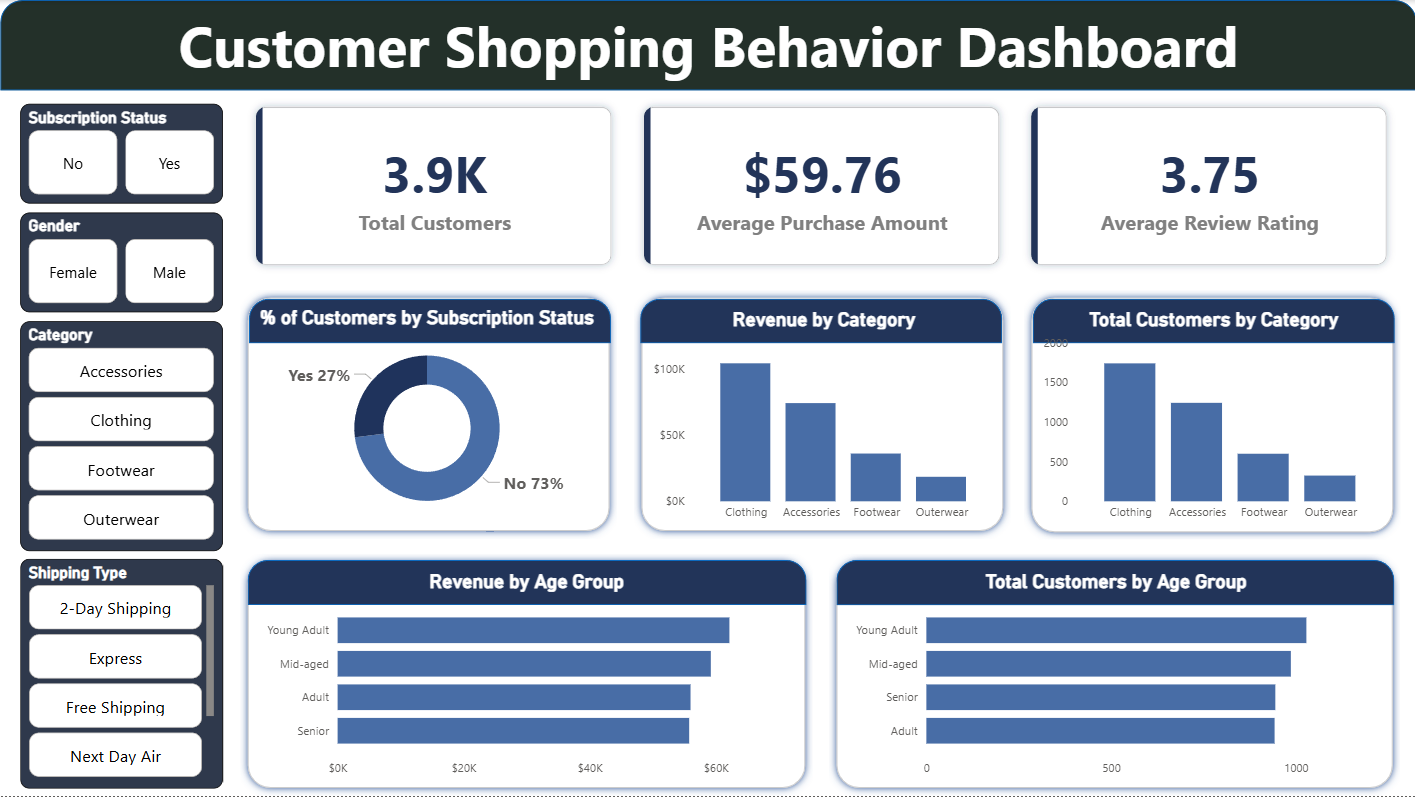

The page's visual inventory and layout, read from the dashboard file:
{"tool":"powerbi","page":{"name":"Page 1","canvas":[1500,842],"ordinal":0},"visuals":[{"type":"cardVisual","fields":{"Data":["_Measures.Total_Customers","_Measures.Average_Purchase_Amount","_Measures.Average_Review_Rating"]},"box":[241.4,82.9,1258.6,227.1],"z":0},{"type":"shape","box":[1.4,0,1498.6,95.7],"z":1000},{"type":"shape","box":[255.7,307.1,398.6,262.9],"z":2000},{"type":"shape","box":[1084.3,307.1,398.6,264.3],"z":3000},{"type":"shape","box":[671.4,307.1,398.6,262.9],"z":4000},{"type":"shape","box":[255.7,585.7,605.7,255.7],"z":7000},{"type":"shape","box":[878.6,585.7,604.3,255.7],"z":8000},{"type":"textbox","box":[158.6,2.9,1184.3,90],"z":10000},{"type":"advancedSlicerVisual","title":"Shipping Type","fields":{"Values":["F_customer_shopping_behaviour_table.shipping_type"]},"box":[22.9,591.4,214.3,242.9],"z":11000},{"type":"advancedSlicerVisual","title":"Gender","fields":{"Values":["F_customer_shopping_behaviour_table.gender"]},"box":[22.9,224.8,214.3,105.7],"z":12000},{"type":"advancedSlicerVisual","title":"Subscription Status","fields":{"Values":["F_customer_shopping_behaviour_table.subscription_status"]},"box":[22.9,110,214.3,105.7],"z":13000},{"type":"advancedSlicerVisual","title":"Category","fields":{"Values":["F_customer_shopping_behaviour_table.category"]},"box":[22.9,339.5,214.3,242.9],"z":14000},{"type":"shape","box":[264.3,315.7,382.9,47.1],"z":15000},{"type":"donutChart","title":"% of Customers by Subscription Status","fields":{"Category":["F_customer_shopping_behaviour_table.subscription_status"],"Y":["_Measures.Total Customers"]},"box":[269,323.9,369,235.2],"z":16000},{"type":"shape","box":[1092.9,315.7,382.9,47.1],"z":17000},{"type":"shape","box":[678.6,315.7,382.9,47.1],"z":18000},{"type":"shape","box":[885.9,593,590,47.9],"z":19000},{"type":"shape","box":[263.1,592.9,591,47.6],"z":20000},{"type":"clusteredBarChart","title":"Revenue by Age Group","fields":{"Y":["Sum(F_customer_shopping_behaviour_table.purchase_amount_USD)"],"Category":["F_customer_shopping_behaviour_table.age_group"]},"box":[271.8,602.8,571.8,228.2],"z":21000},{"type":"clusteredColumnChart","title":"Revenue by Category","fields":{"Category":["F_customer_shopping_behaviour_table.category"],"Y":["Sum(F_customer_shopping_behaviour_table.purchase_amount_USD)"]},"box":[687.3,325.4,370.4,235.2],"z":21500},{"type":"clusteredColumnChart","title":"Total Customers by Category","fields":{"Y":["_Measures.Total Customers"],"Category":["F_customer_shopping_behaviour_table.category"]},"box":[1100,325.4,370.4,235.2],"z":22000},{"type":"clusteredBarChart","title":"Total Customers by Age Group","fields":{"Y":["_Measures.Total Customers"],"Category":["F_customer_shopping_behaviour_table.age_group"]},"box":[895.8,602.8,573.2,228.2],"z":22500}]}

Visuals, with their boxes in screenshot pixels (x1, y1, x2, y2), scaled from the page's 1500x842 canvas onto the 1415x797 screenshot:
cardVisual - _Measures.Total_Customers x _Measures.Average_Purchase_Amount: select_region(228, 78, 1414, 293)
shape: select_region(1, 0, 1414, 91)
shape: select_region(241, 291, 617, 540)
shape: select_region(1023, 291, 1399, 541)
shape: select_region(633, 291, 1009, 540)
shape: select_region(241, 554, 813, 796)
shape: select_region(829, 554, 1399, 796)
textbox: select_region(150, 3, 1267, 88)
"Shipping Type" advancedSlicerVisual: select_region(22, 560, 224, 790)
"Gender" advancedSlicerVisual: select_region(22, 213, 224, 313)
"Subscription Status" advancedSlicerVisual: select_region(22, 104, 224, 204)
"Category" advancedSlicerVisual: select_region(22, 321, 224, 551)
shape: select_region(249, 299, 611, 343)
"% of Customers by Subscription Status" donutChart: select_region(254, 307, 602, 529)
shape: select_region(1031, 299, 1392, 343)
shape: select_region(640, 299, 1001, 343)
shape: select_region(836, 561, 1392, 607)
shape: select_region(248, 561, 806, 606)
"Revenue by Age Group" clusteredBarChart: select_region(256, 571, 796, 787)
"Revenue by Category" clusteredColumnChart: select_region(648, 308, 998, 531)
"Total Customers by Category" clusteredColumnChart: select_region(1038, 308, 1387, 531)
"Total Customers by Age Group" clusteredBarChart: select_region(845, 571, 1386, 787)
